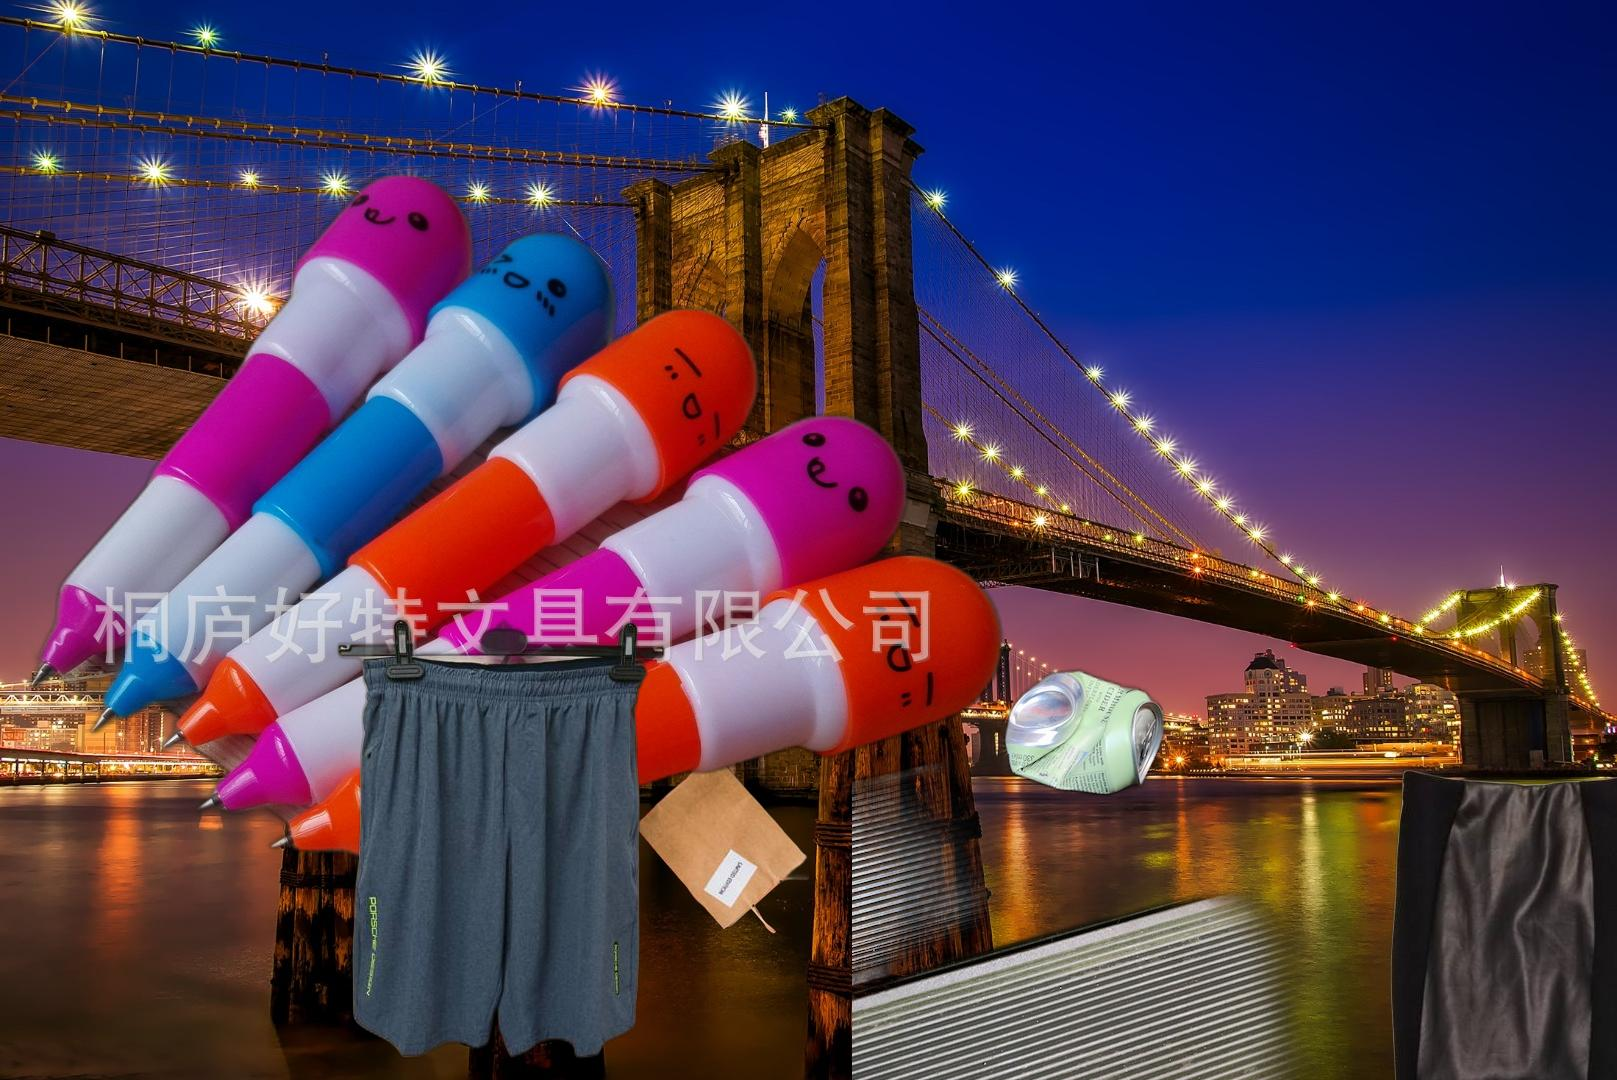clothes: (312, 517, 668, 1064), (1388, 765, 1617, 1080)
metal-cans: (852, 562, 1364, 1080)
paper-bag: (633, 749, 812, 935)
penholder: (16, 165, 1010, 869)
plastic-bottles: (1152, 1031, 1258, 1080)
